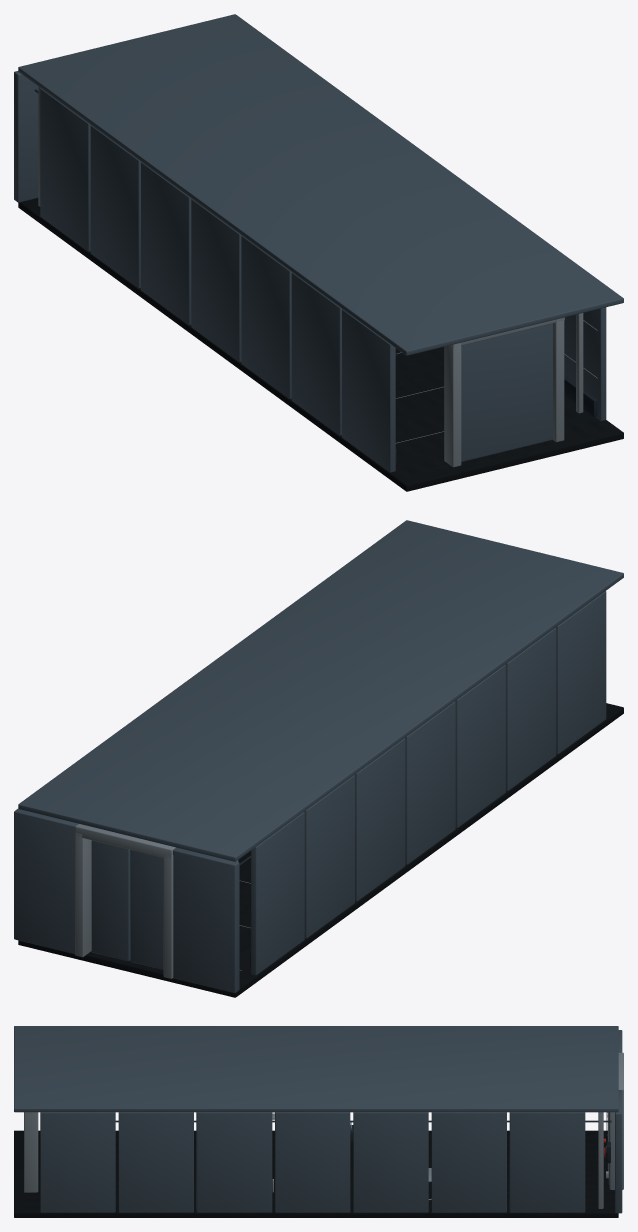
The model's file is station-interior.glb.
The picture shows the model from 3 angles, top to bottom: view 1: azimuth 30°, elevation 25°; view 2: azimuth 150°, elevation 25°; view 3: azimuth 270°, elevation 25°; orthographic projection. The views are drawn at different scales.
Parts seen in each view (by area): view 1: Ceiling, StationDeck, EntryLeaf, WallPanel-10, WallPanel-12, WallPanel-15, WallPanel-16, WallPanel-11, WallPanel-14, WallPanel-13, EndWall-1, WallPanel10 (+3 smaller); view 2: Ceiling, EndWall-1, EndWall1, WallPanel-16, WallPanel-10, WallPanel-14, WallPanel-11, WallPanel-12, WallPanel-13, WallPanel-15, StationDeck, DoorPanel1 (+4 smaller); view 3: Ceiling, StationDeck, WallPanel12, WallPanel16, WallPanel10, WallPanel14, WallPanel11, WallPanel13, WallPanel15, AirlockJamb1, EndWall1, LockedDoorJamb1 (+1 smaller).
Boxes of the visible parts, x1=… form: Ceiling: x1=18, y1=14, x2=623, y2=355; StationDeck: x1=18, y1=198, x2=623, y2=491; EntryLeaf: x1=461, y1=323, x2=552, y2=462; WallPanel-10: x1=342, y1=309, x2=395, y2=472; WallPanel-12: x1=241, y1=235, x2=292, y2=398; WallPanel-15: x1=90, y1=125, x2=140, y2=288; WallPanel-16: x1=40, y1=88, x2=90, y2=251; WallPanel-11: x1=291, y1=272, x2=342, y2=435; WallPanel-14: x1=141, y1=162, x2=191, y2=325; WallPanel-13: x1=191, y1=199, x2=241, y2=362; EndWall-1: x1=14, y1=71, x2=38, y2=202; WallPanel10: x1=564, y1=307, x2=606, y2=421; Ceiling: x1=18, y1=520, x2=623, y2=861; EndWall-1: x1=173, y1=847, x2=239, y2=993; EndWall1: x1=14, y1=809, x2=78, y2=953; WallPanel-16: x1=251, y1=812, x2=304, y2=975; WallPanel-10: x1=555, y1=591, x2=606, y2=754; WallPanel-14: x1=354, y1=738, x2=405, y2=901; WallPanel-11: x1=505, y1=628, x2=556, y2=791; WallPanel-12: x1=455, y1=664, x2=505, y2=827; WallPanel-13: x1=405, y1=701, x2=455, y2=864; WallPanel-15: x1=304, y1=775, x2=354, y2=938; StationDeck: x1=18, y1=703, x2=623, y2=997; DoorPanel1: x1=91, y1=840, x2=130, y2=961; Ceiling: x1=14, y1=1026, x2=618, y2=1112; StationDeck: x1=14, y1=1130, x2=618, y2=1217; WallPanel12: x1=196, y1=1112, x2=272, y2=1212; WallPanel16: x1=509, y1=1112, x2=585, y2=1212; WallPanel10: x1=40, y1=1112, x2=115, y2=1212; WallPanel14: x1=353, y1=1112, x2=428, y2=1212; WallPanel11: x1=118, y1=1112, x2=193, y2=1212; WallPanel13: x1=275, y1=1112, x2=350, y2=1212; WallPanel15: x1=431, y1=1112, x2=506, y2=1212; AirlockJamb1: x1=24, y1=1112, x2=38, y2=1192; EndWall1: x1=615, y1=1090, x2=622, y2=1213; LockedDoorJamb1: x1=609, y1=1093, x2=623, y2=1189.
Bounding box in the file's own units: 5.6 × 3.4 × 17.15.
13 materials, 1 textured.
